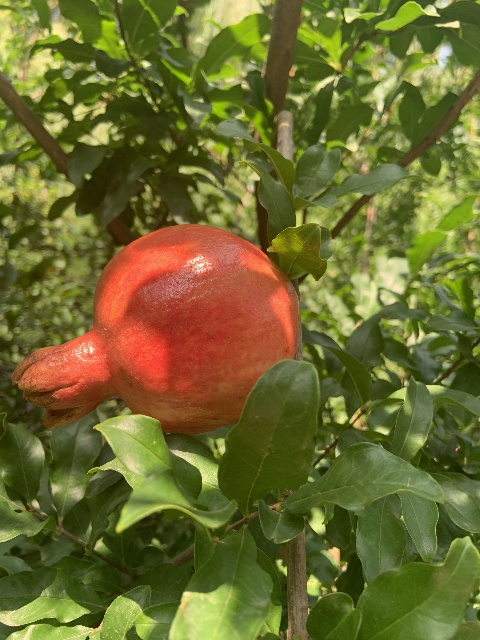ripe: (14, 224, 302, 434)
